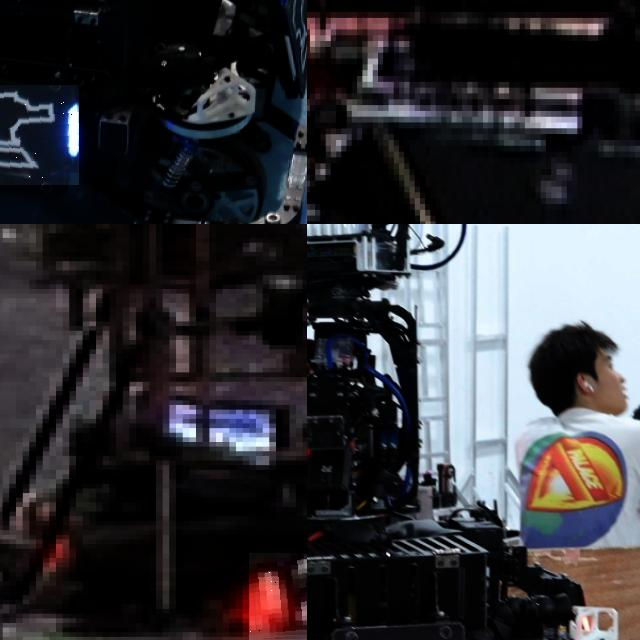Bs: (0, 85, 79, 184)
R2: (249, 553, 307, 640)
